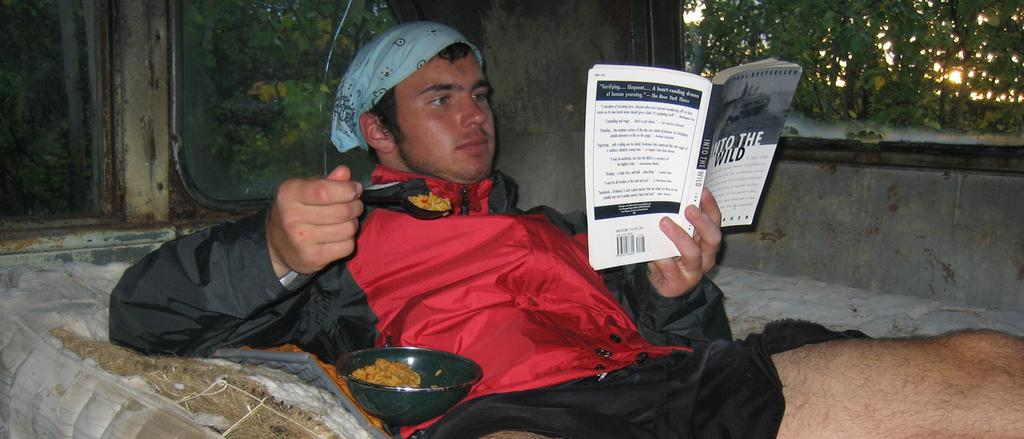Book: (564, 69, 754, 284)
